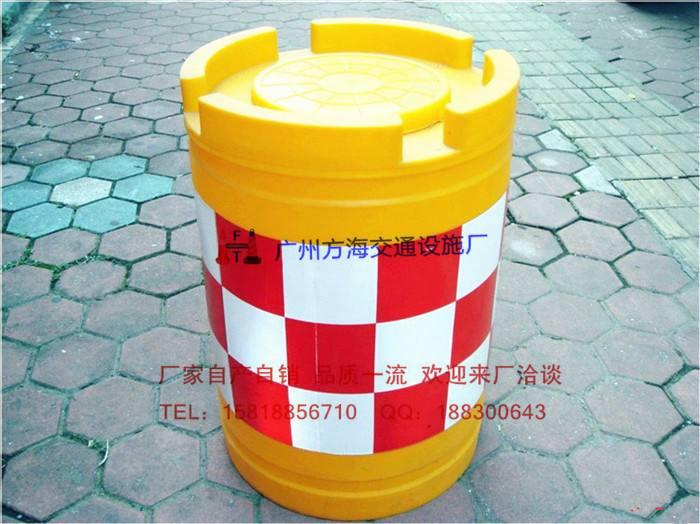sign: (166, 19, 525, 518)
